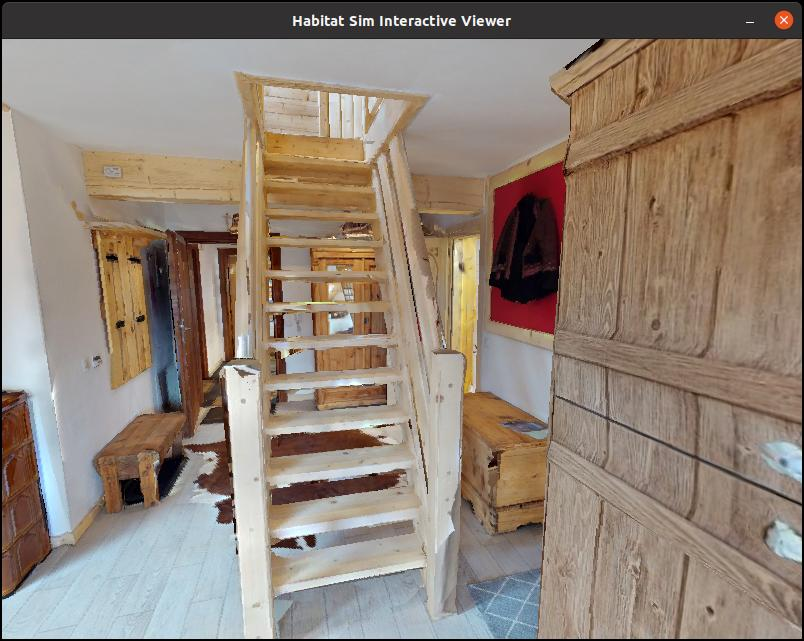stairs: (215, 69, 476, 610)
